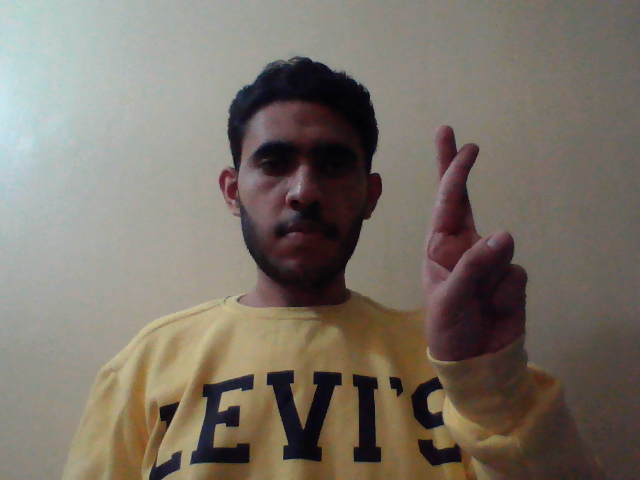R: (417, 117, 540, 385)
